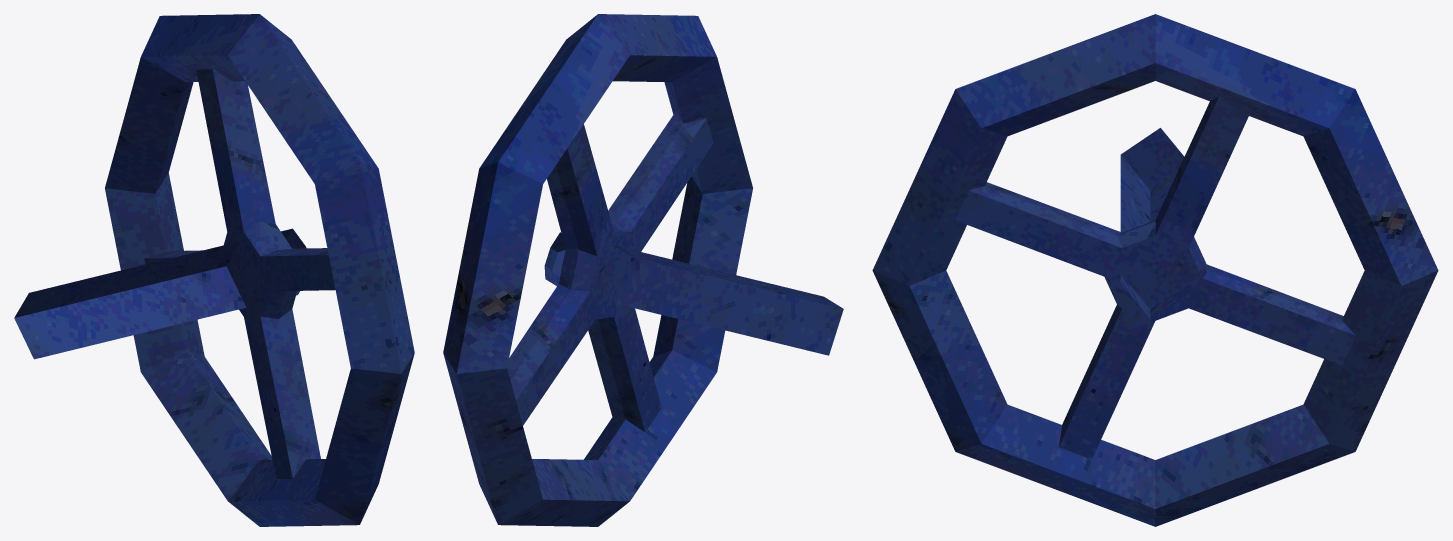
Rendered from valve_blue_with_handle.glb.
3 renders of one model, left to right at view 1: azimuth 30°, elevation 25°; view 2: azimuth 150°, elevation 25°; view 3: azimuth 270°, elevation 25°, orthographic.
Visible parts, largest first — view 1: valve_blue_with_handle; view 2: valve_blue_with_handle; view 3: valve_blue_with_handle.
Boxes of the visible parts, x1,y1,x2,y2 form: valve_blue_with_handle: (14, 14, 414, 526); valve_blue_with_handle: (443, 14, 843, 526); valve_blue_with_handle: (872, 14, 1438, 526).
Size of the model in its own units: 0.234 by 0.4167 by 0.4167.
Materials: 1 (1 with a texture image).
